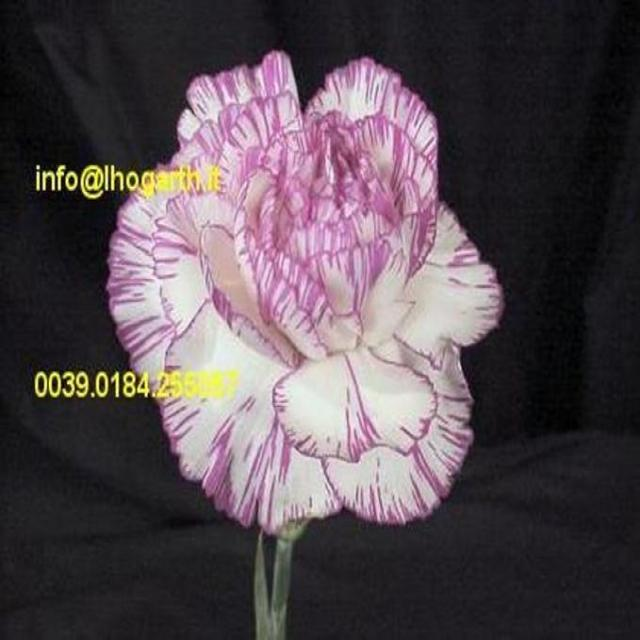carnation: (107, 61, 500, 544)
